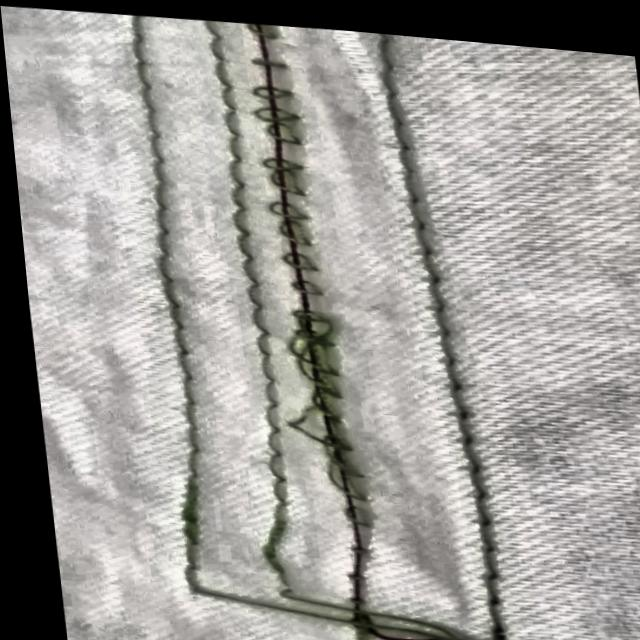Stitch: (229, 16, 357, 292), (269, 296, 393, 522), (325, 557, 538, 640)
